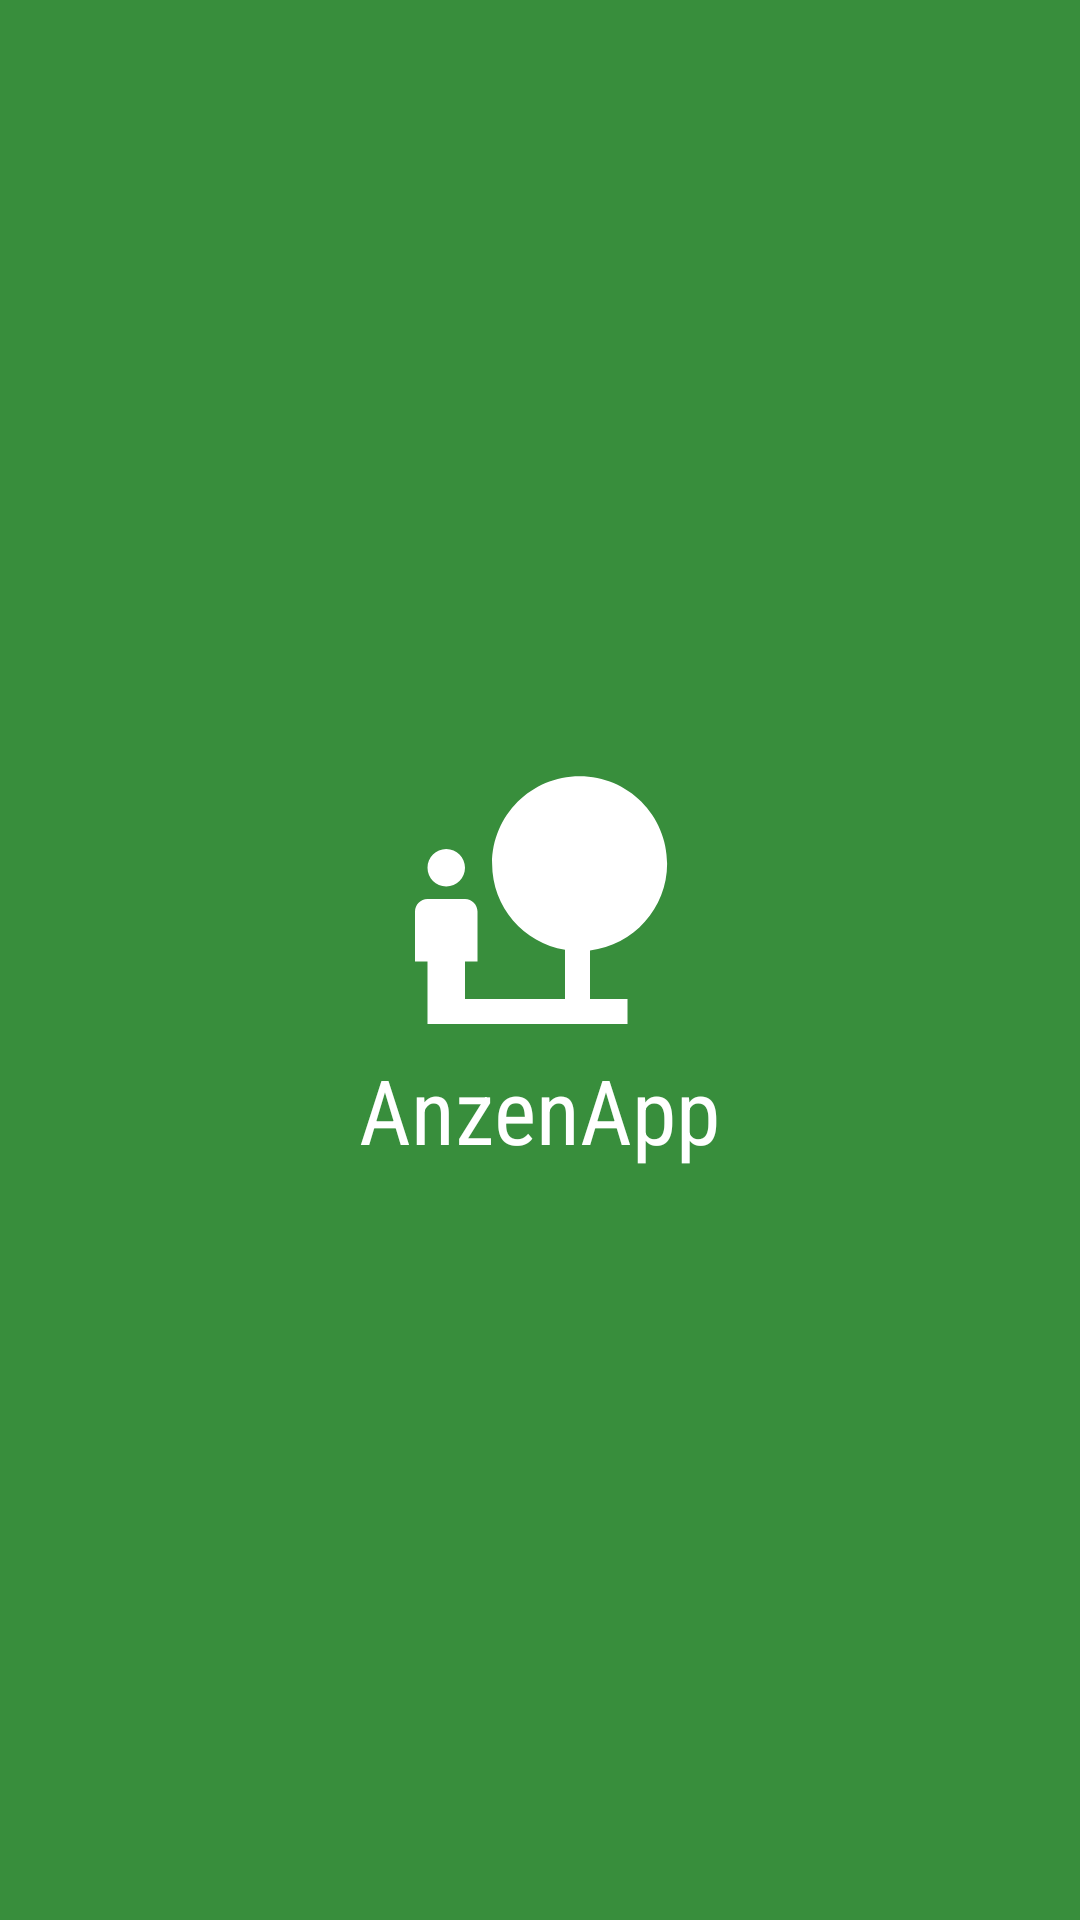

Where to tap for icons on this 1080px x 1920px app screen, as [x,y]:
nature people: [541,900]
